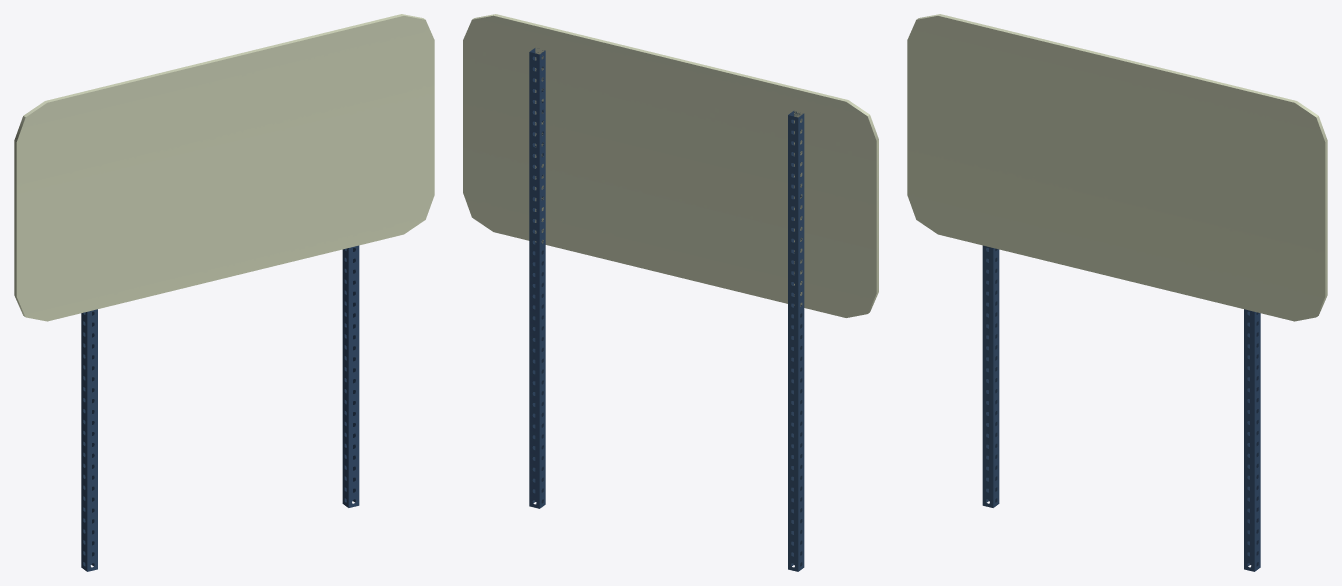
Rendered from PR_CitySign_02.fbx.
The picture shows the model from 3 angles, left to right: view 1: azimuth 30°, elevation 25°; view 2: azimuth 150°, elevation 25°; view 3: azimuth 330°, elevation 25°; orthographic projection.
Visible parts, largest first — view 1: PR_CitySign_2; view 2: PR_CitySign_2; view 3: PR_CitySign_2.
Boxes of the visible parts, left/top/right/bottom form: PR_CitySign_2: left=14, top=14, right=434, bottom=571; PR_CitySign_2: left=463, top=14, right=878, bottom=571; PR_CitySign_2: left=907, top=14, right=1327, bottom=571.
Bounding box in the file's own units: 167 × 183 × 5.81.
1 material, 1 textured.
